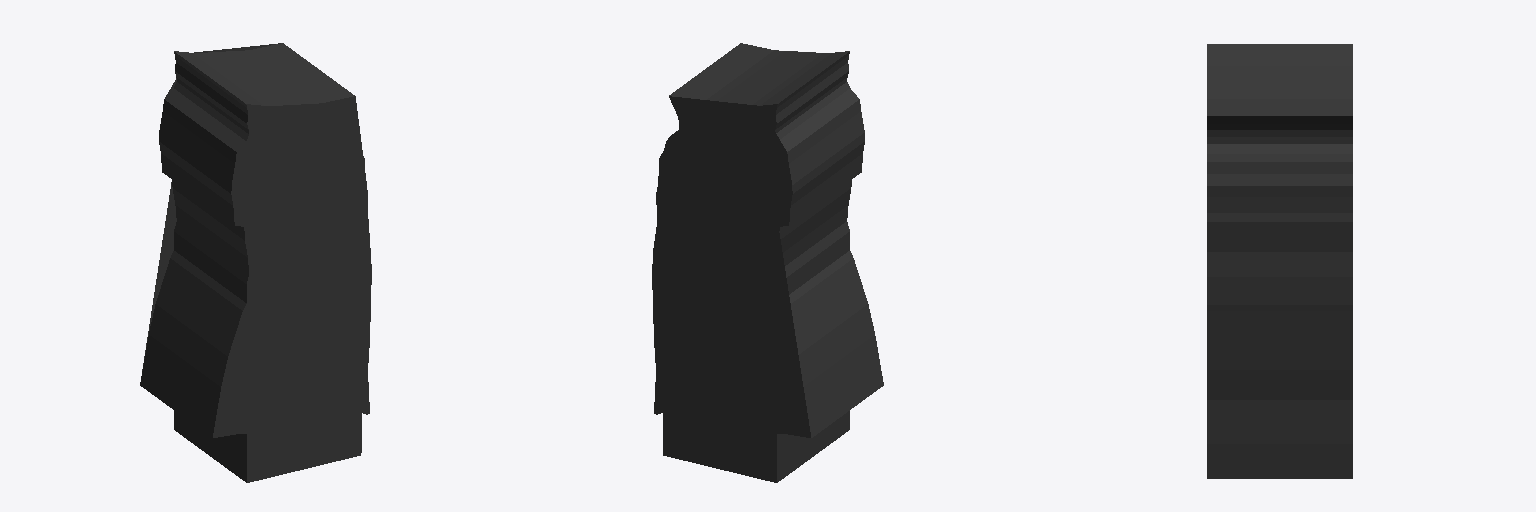
The model's file is mollyCoat.obj.
The picture shows the model from 3 angles: view 1: azimuth 30°, elevation 25°; view 2: azimuth 150°, elevation 25°; view 3: azimuth 270°, elevation 25°; orthographic projection.
Visible parts, largest first — view 1: Plane.001; view 2: Plane.001; view 3: Plane.001.
Boxes of the visible parts, <box> form: Plane.001: <box>140,43,371,482</box>; Plane.001: <box>652,43,883,482</box>; Plane.001: <box>1207,44,1352,478</box>.
Size of the model in its own units: 0.614 by 1.4 by 0.4836.